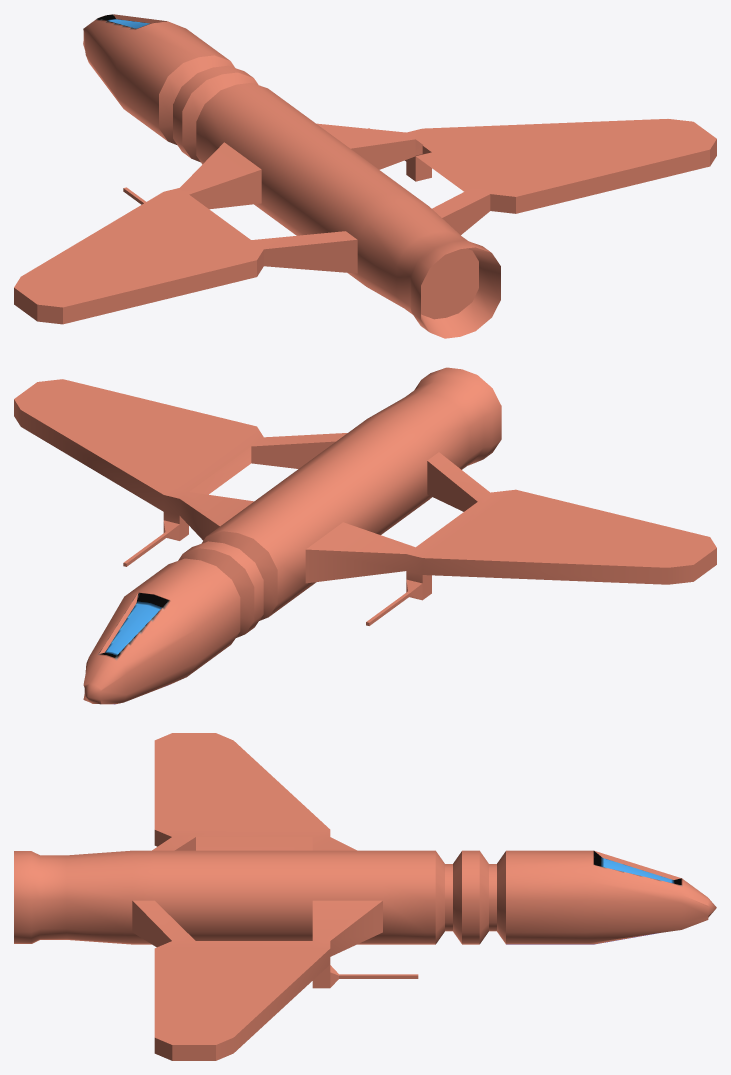
File: enemyshipb.fbx
3 views of the same model, one above another, from view 1: azimuth 30°, elevation 25°; view 2: azimuth 150°, elevation 25°; view 3: azimuth 270°, elevation 25° (orthographic). The views are drawn at different scales.
Visible parts, largest first — view 1: Ship; view 2: Ship; view 3: Ship.
Part boxes in pixels (left/top/right/bottom): Ship: left=14, top=14, right=716, bottom=338; Ship: left=14, top=367, right=716, bottom=704; Ship: left=14, top=733, right=716, bottom=1060.
Size of the model in its own units: 8.4 by 1.05 by 8.
Materials: 1 (1 with a texture image).
